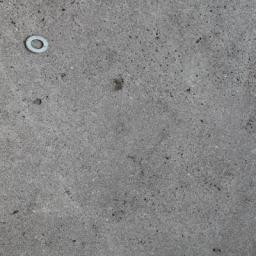FOD: (23, 31, 51, 57)
